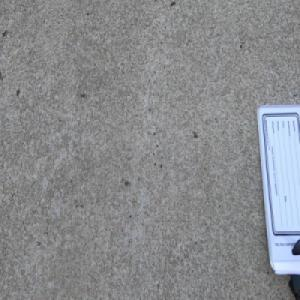LuggageTag: (255, 101, 300, 300)
